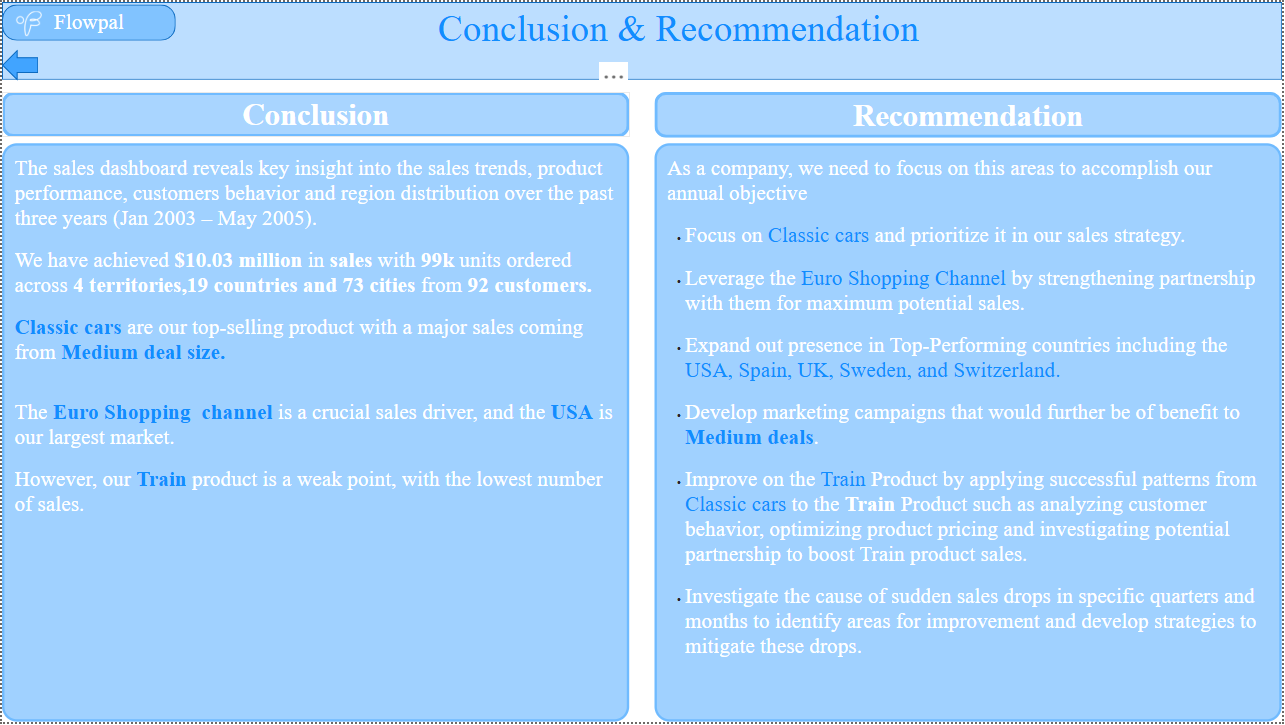

Layout of this report page (visuals, bound fields, positions):
{"tool":"powerbi","page":{"name":"Conclusion","canvas":[1280,720],"ordinal":5},"visuals":[{"type":"shape","box":[0,0,1280.2,77.9],"z":0},{"type":"shape","box":[0,2.5,173.8,36.2],"z":0,"group":"g1"},{"type":"image","box":[8.8,3.5,36.2,35.3],"z":1000,"group":"g1"},{"type":"shape","box":[0,47.5,36.2,31.2],"z":1000},{"type":"textbox","box":[197.6,0,957.8,78.2],"z":2000},{"type":"group","id":"g1","title":"Group 1","box":[0,2.5,173.8,36.2],"z":3000},{"type":"textbox","box":[0,141.2,627.5,578.8],"z":4000},{"type":"shape","box":[0,90,627.5,45],"z":5000},{"type":"shape","box":[652.9,90,627.1,45.7],"z":6000},{"type":"textbox","box":[652.5,141.2,627.5,578.8],"z":7000}]}

Visuals, with their boxes in screenshot pixels (x1, y1, x2, y2):
shape: bbox=(3, 0, 1271, 77)
shape: bbox=(3, 2, 175, 38)
image: bbox=(12, 3, 48, 38)
shape: bbox=(3, 47, 39, 78)
textbox: bbox=(199, 0, 1147, 77)
"Group 1" group: bbox=(3, 2, 175, 38)
textbox: bbox=(3, 140, 625, 713)
shape: bbox=(3, 89, 625, 134)
shape: bbox=(650, 89, 1271, 134)
textbox: bbox=(649, 140, 1271, 713)
